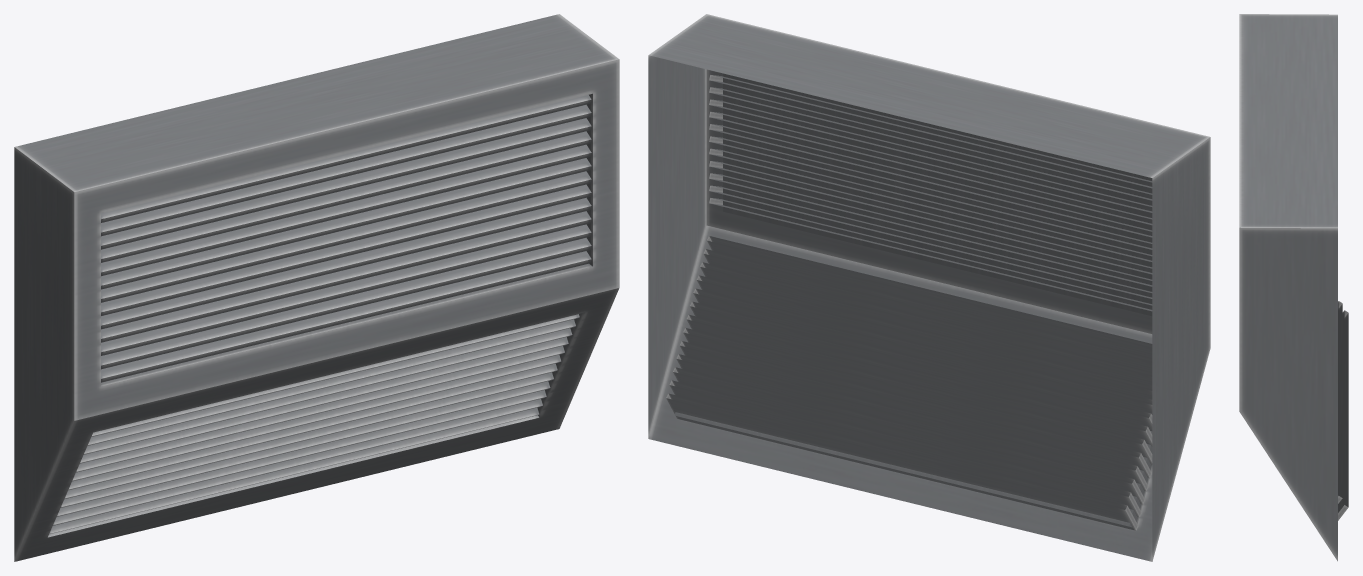
File: MetalAC_A.fbx
3 views of the same model, side by side, from view 1: azimuth 30°, elevation 25°; view 2: azimuth 150°, elevation 25°; view 3: azimuth 270°, elevation 25° (orthographic). The views are drawn at different scales.
Parts seen in each view (by area): view 1: MetalAC_A; view 2: MetalAC_A; view 3: MetalAC_A.
Boxes of the visible parts, x1=… form: MetalAC_A: x1=14, y1=14, x2=619, y2=561; MetalAC_A: x1=648, y1=14, x2=1210, y2=561; MetalAC_A: x1=1239, y1=14, x2=1348, y2=561.
Bounding box in the file's own units: 114 × 82.42 × 24.47.
